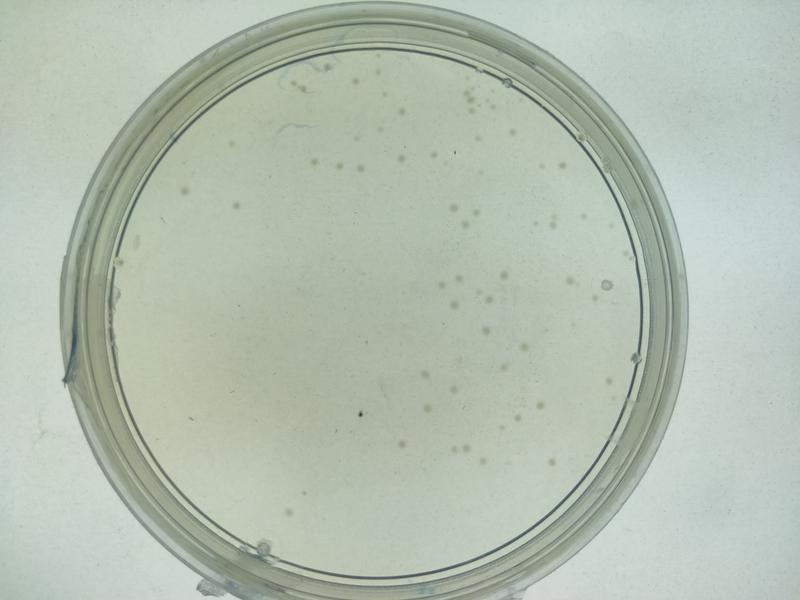colony: (437, 189, 467, 220), (541, 447, 567, 479), (475, 321, 504, 347), (528, 392, 554, 419), (387, 150, 416, 174), (301, 147, 324, 174), (351, 157, 375, 182), (552, 155, 577, 179), (278, 499, 302, 523), (446, 377, 468, 403), (513, 339, 543, 358), (443, 297, 468, 319), (390, 100, 415, 121), (394, 432, 414, 456), (412, 365, 437, 384), (472, 448, 491, 472), (224, 195, 246, 215), (495, 266, 516, 285), (419, 402, 442, 419)
